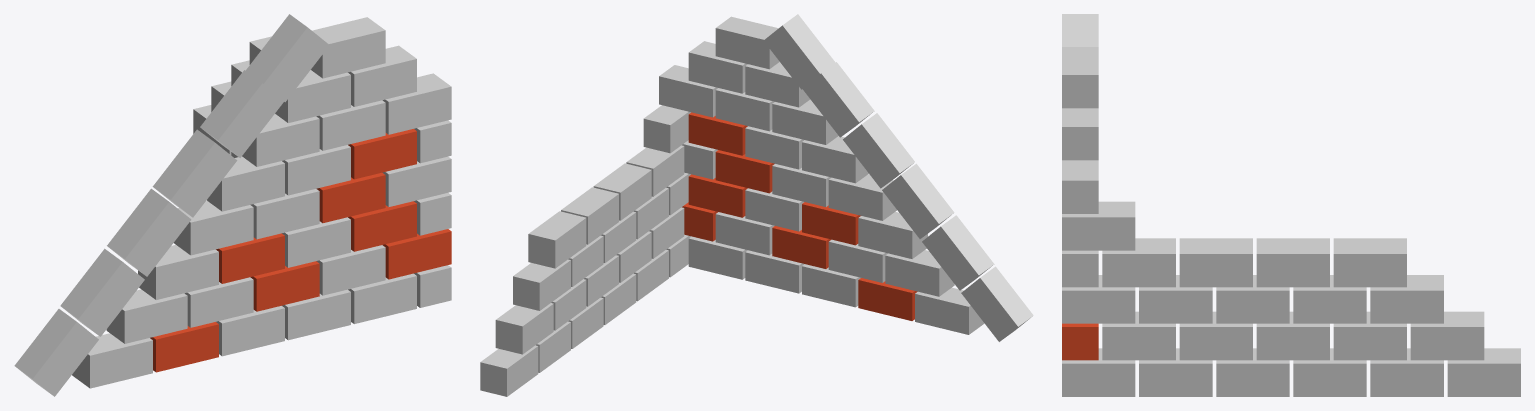
The model's file is brickwall.fbx.
The picture shows the model from 3 angles, left to right: view 1: azimuth 30°, elevation 25°; view 2: azimuth 150°, elevation 25°; view 3: azimuth 270°, elevation 25°; orthographic projection. The views are drawn at different scales.
Visible parts, largest first — view 1: Cube.050, Cube.048, Cube.049, Cube.051, Cube.052, Cube.053, Cube.047, Cube, Cube.004, Cube.020, Cube.025, Cube.044 (+25 smaller); view 2: Cube.048, Cube.049, Cube.050, Cube.051, Cube.052, Cube.053, Cube.040, Cube.047, Cube.019, Cube.005, Cube, Cube.031 (+42 smaller); view 3: Cube.036, Cube.038, Cube.040, Cube.019, Cube.034, Cube.023, Cube.005, Cube.031, Cube.015, Cube.016, Cube.017, Cube.014 (+15 smaller).
Part boxes in pixels (bbox=[...]): Cube.050: bbox=[107, 188, 191, 276]; Cube.048: bbox=[14, 309, 98, 396]; Cube.049: bbox=[60, 248, 144, 336]; Cube.051: bbox=[152, 129, 237, 217]; Cube.052: bbox=[200, 70, 284, 157]; Cube.053: bbox=[245, 14, 329, 102]; Cube.047: bbox=[311, 17, 385, 78]; Cube: bbox=[72, 333, 152, 388]; Cube.004: bbox=[106, 289, 187, 343]; Cube.020: bbox=[138, 245, 218, 299]; Cube.025: bbox=[174, 201, 253, 255]; Cube.044: bbox=[382, 73, 451, 134]; Cube.048: bbox=[961, 266, 1033, 341]; Cube.049: bbox=[922, 215, 994, 290]; Cube.050: bbox=[882, 163, 954, 238]; Cube.051: bbox=[843, 113, 914, 188]; Cube.052: bbox=[802, 62, 874, 137]; Cube.053: bbox=[764, 14, 835, 89]; Cube.040: bbox=[528, 211, 586, 268]; Cube.047: bbox=[715, 16, 779, 69]; Cube.019: bbox=[495, 303, 553, 354]; Cube.005: bbox=[480, 345, 538, 396]; Cube: bbox=[915, 287, 984, 334]; Cube.031: bbox=[513, 259, 570, 310]; Cube.036: bbox=[1179, 238, 1252, 287]; Cube.038: bbox=[1256, 238, 1329, 287]; Cube.040: bbox=[1333, 238, 1406, 287]; Cube.019: bbox=[1410, 311, 1484, 360]; Cube.034: bbox=[1102, 238, 1175, 287]; Cube.023: bbox=[1062, 201, 1135, 250]; Cube.005: bbox=[1447, 348, 1520, 396]; Cube.031: bbox=[1370, 275, 1443, 323]; Cube.015: bbox=[1179, 311, 1252, 360]; Cube.016: bbox=[1256, 311, 1329, 360]; Cube.017: bbox=[1333, 311, 1406, 360]; Cube.014: bbox=[1102, 311, 1175, 360].
Size of the model in its own units: 13.33 by 9.37 by 12.5.
